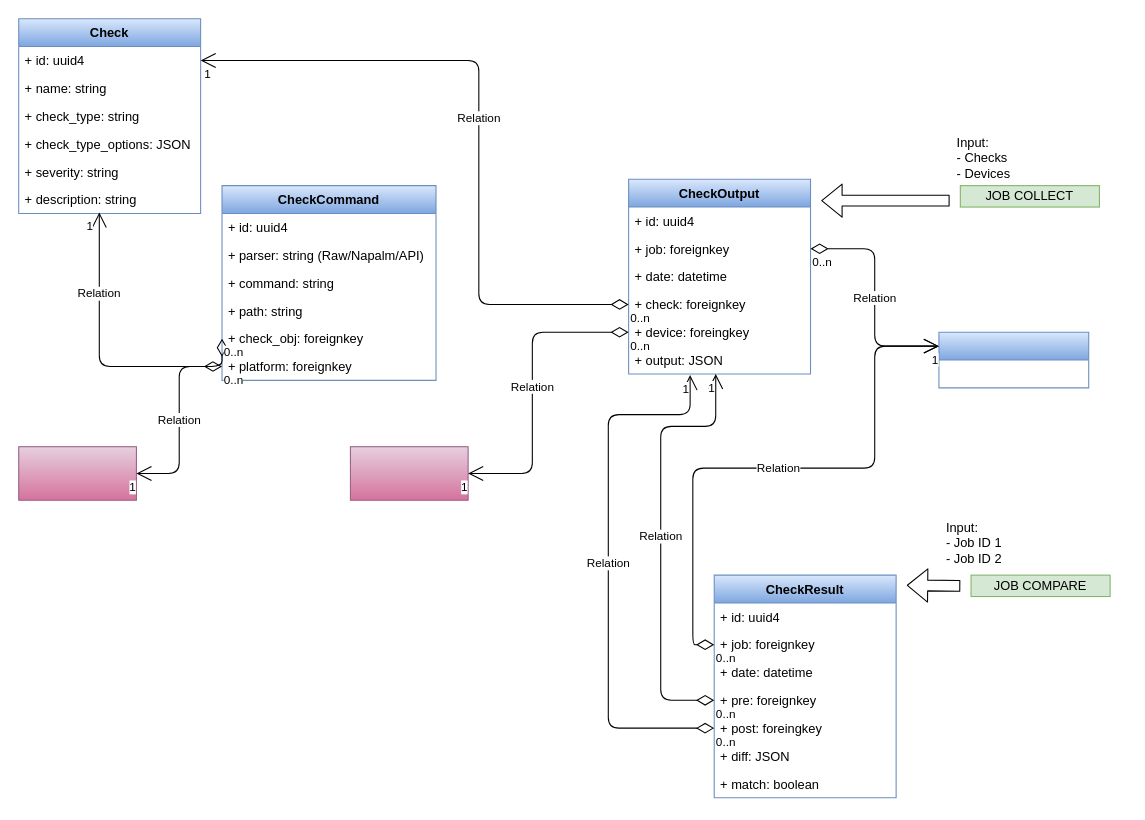
Image size: 1145x820. Some labels were removed from this diagram. Each missing label, with the centre of its shape:
"Device" goes at [408,473].
"Jobs" goes at [1013,359].
"Platform" goes at [77,473].
